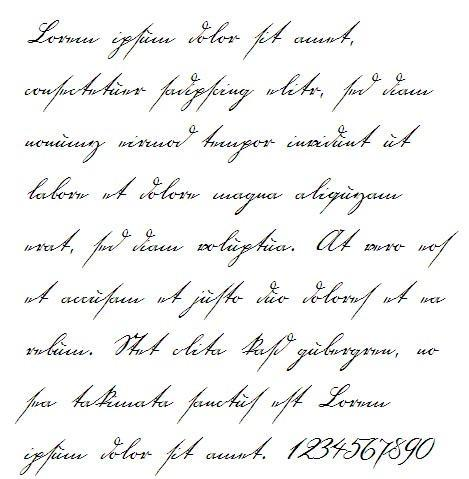text: (19, 227, 461, 271), (17, 433, 439, 478), (21, 279, 449, 323), (21, 70, 436, 114), (22, 330, 442, 373), (23, 122, 422, 165), (11, 383, 393, 427), (25, 175, 405, 217), (26, 17, 363, 63)
